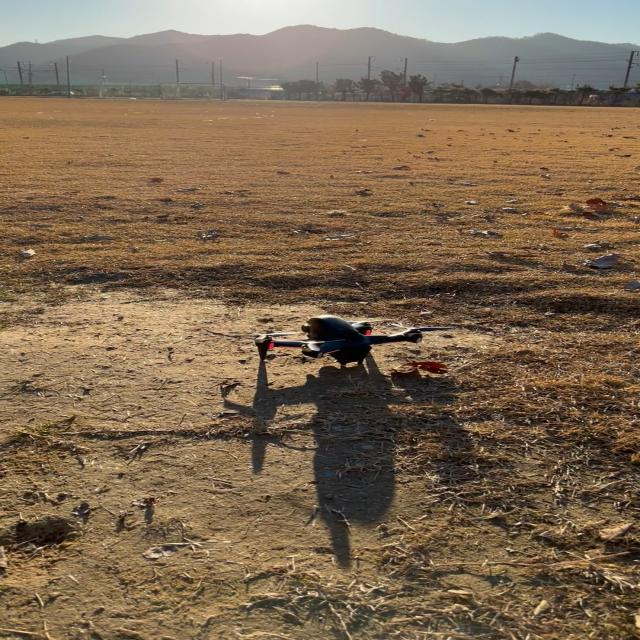drone: (251, 313, 454, 368)
